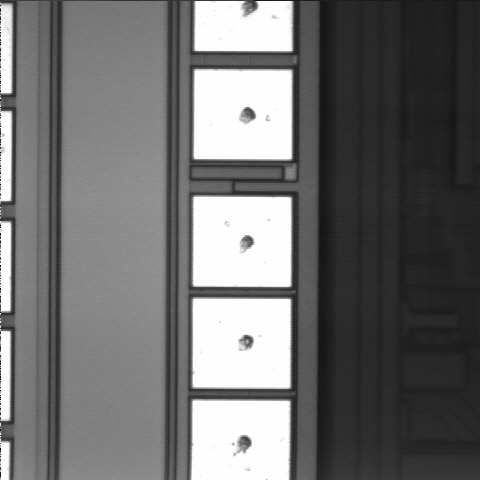pad: (194, 69, 292, 159), (193, 197, 291, 287), (193, 299, 291, 389)
